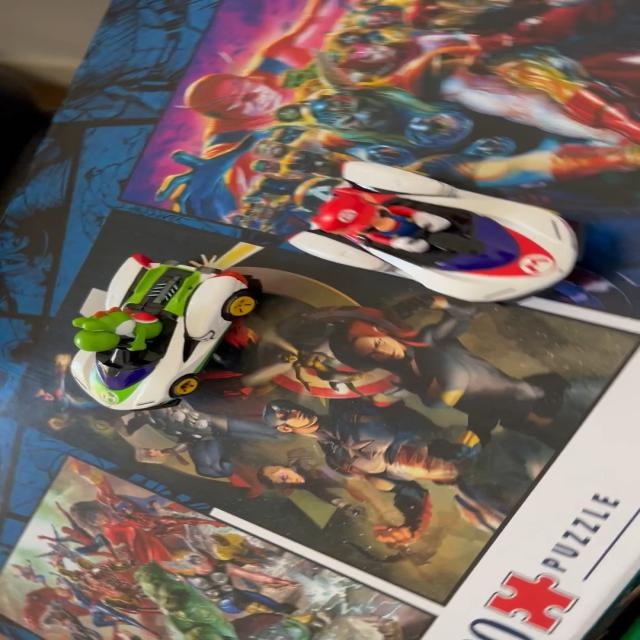mario: (281, 150, 611, 308)
yoshi: (44, 234, 269, 421)
